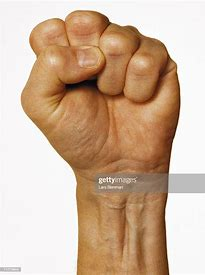closed: (19, 9, 182, 167)
